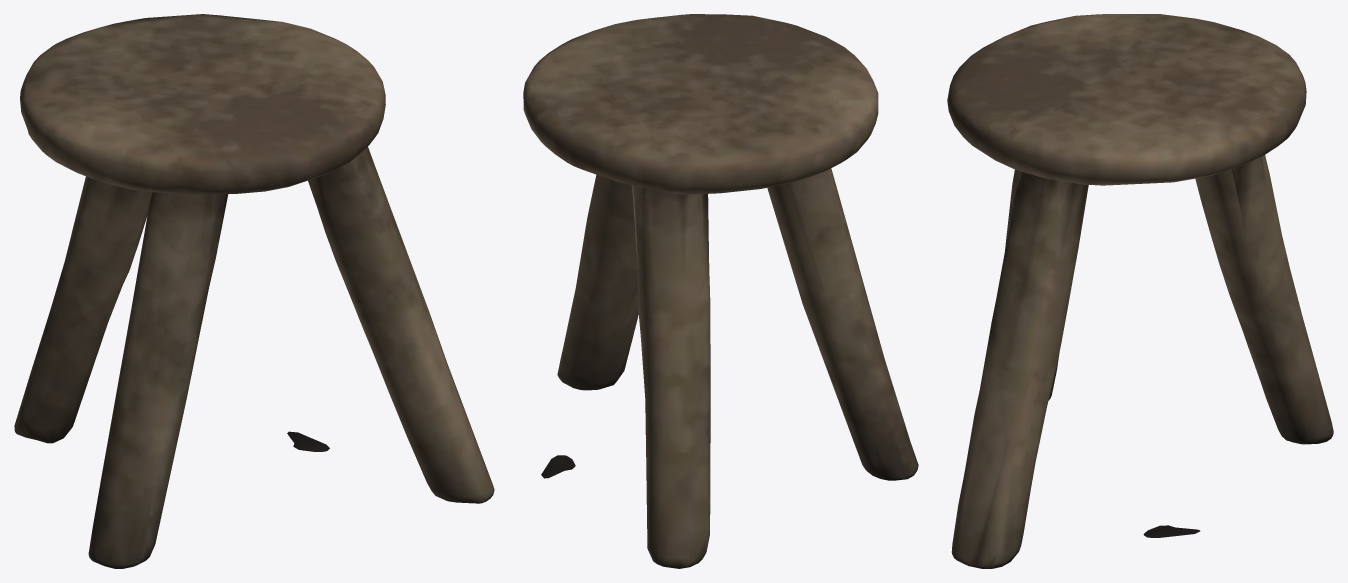
File: rustic-wood-stool-v002.glb
3 renders of one model, left to right at view 1: azimuth 30°, elevation 25°; view 2: azimuth 150°, elevation 25°; view 3: azimuth 270°, elevation 25°, orthographic. The views are drawn at different scales.
Visible parts, largest first — view 1: rustic-wood-stool; view 2: rustic-wood-stool; view 3: rustic-wood-stool.
Boxes of the visible parts, x1,y1,x2,y2 form: rustic-wood-stool: (14,14,494,568); rustic-wood-stool: (523,14,918,568); rustic-wood-stool: (947,14,1333,568).
Size of the model in its own units: 0.5163 by 0.5294 by 0.4713.
Materials: 1 (1 with a texture image).
